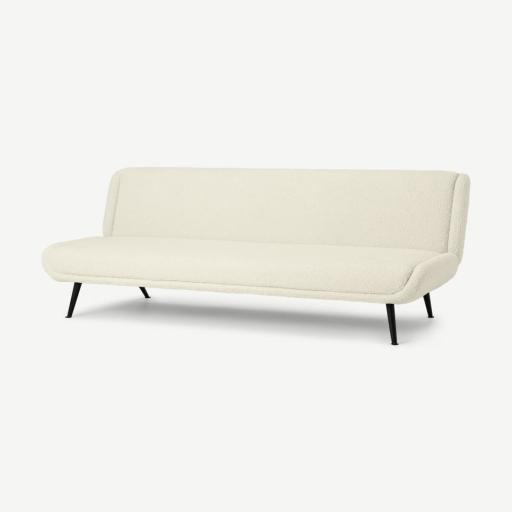back_cushion: (103, 168, 468, 256)
legs: (66, 282, 81, 318), (387, 304, 398, 345), (423, 294, 433, 318), (139, 287, 149, 298)
seat_cushion: (43, 237, 457, 303)
two-seater: (0, 0, 511, 512)
